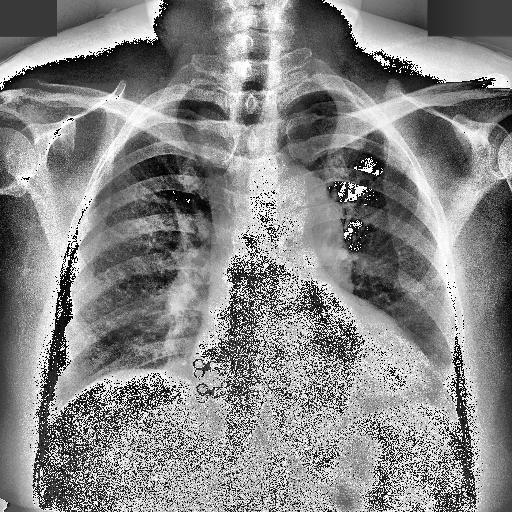0- Aortic enlargement: (236, 166, 350, 278), (252, 163, 350, 260), (253, 168, 346, 248)
3- Cardiomegaly: (192, 318, 430, 407), (188, 332, 440, 414), (190, 335, 442, 410)
